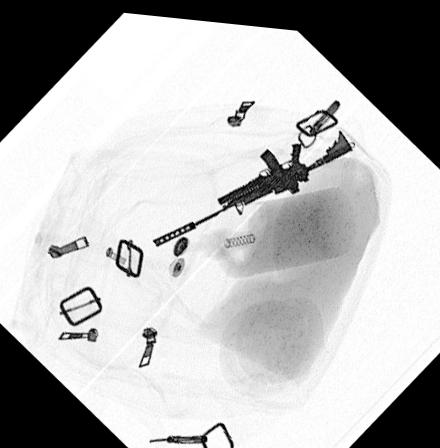Gun: (152, 122, 355, 243)
